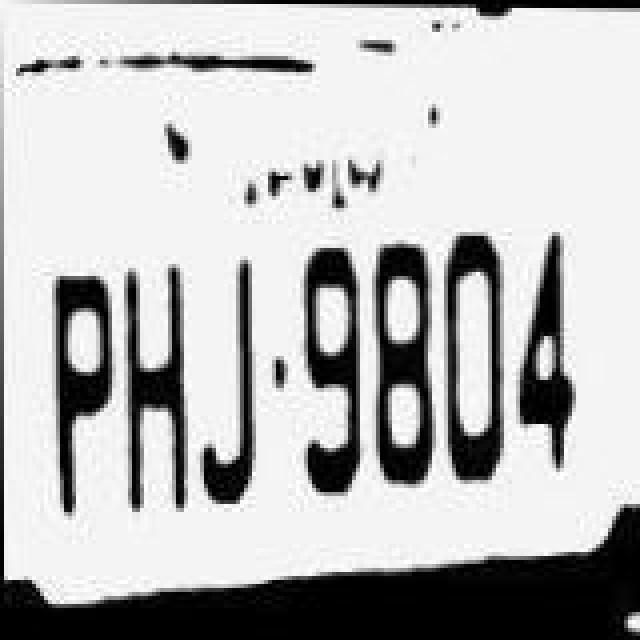4: (512, 218, 588, 482)
8: (366, 224, 438, 496)
9: (294, 236, 366, 516)
H: (116, 250, 192, 522)
J: (190, 246, 262, 510)
O: (434, 212, 506, 488)
P: (42, 266, 122, 534)
